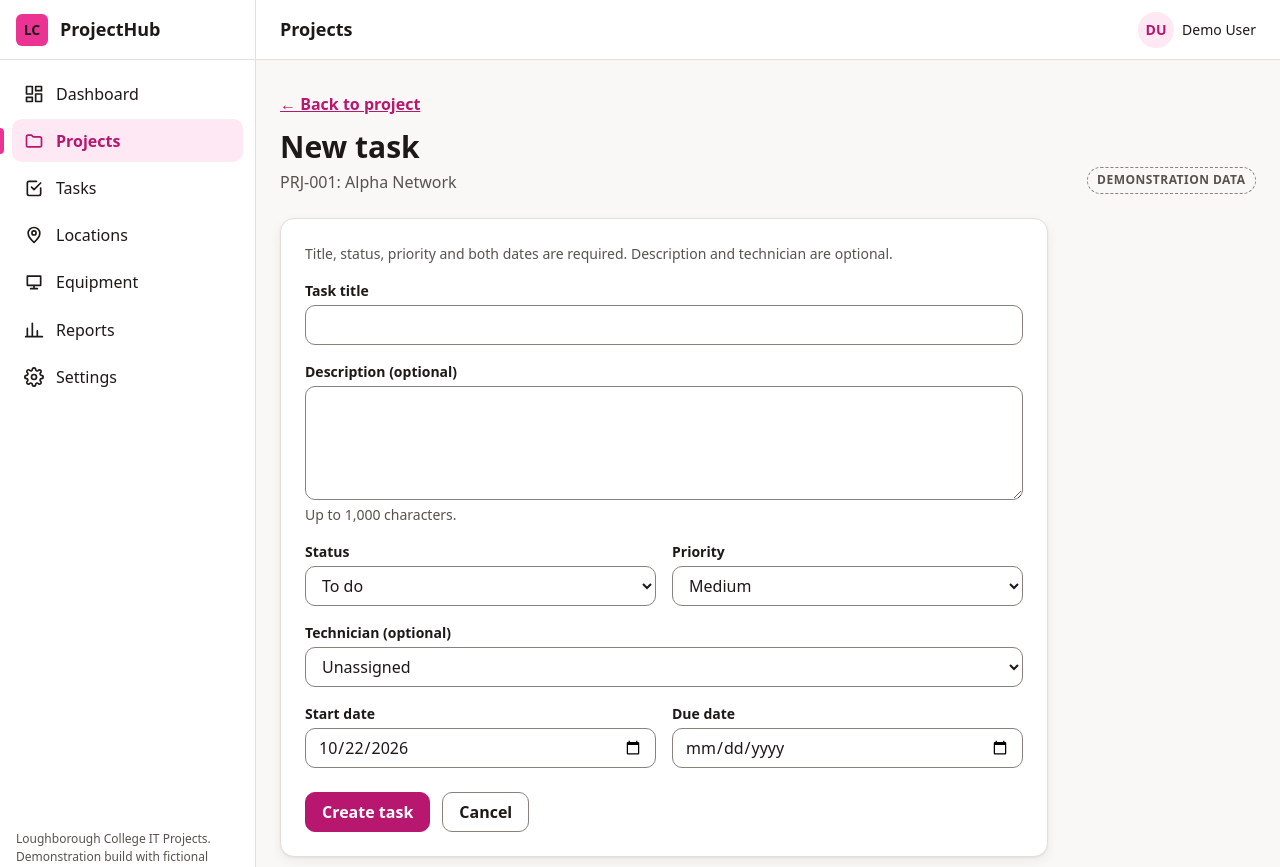
Scenario: creating a task › shows server-side field errors on the right field
Expected: the heading "New task" is shown, top-left (280, 126), bottom-right (420, 167)
In the field labelled "Task title": (664, 324) top-left (305, 304), bottom-right (1023, 344), type "Label the cables"
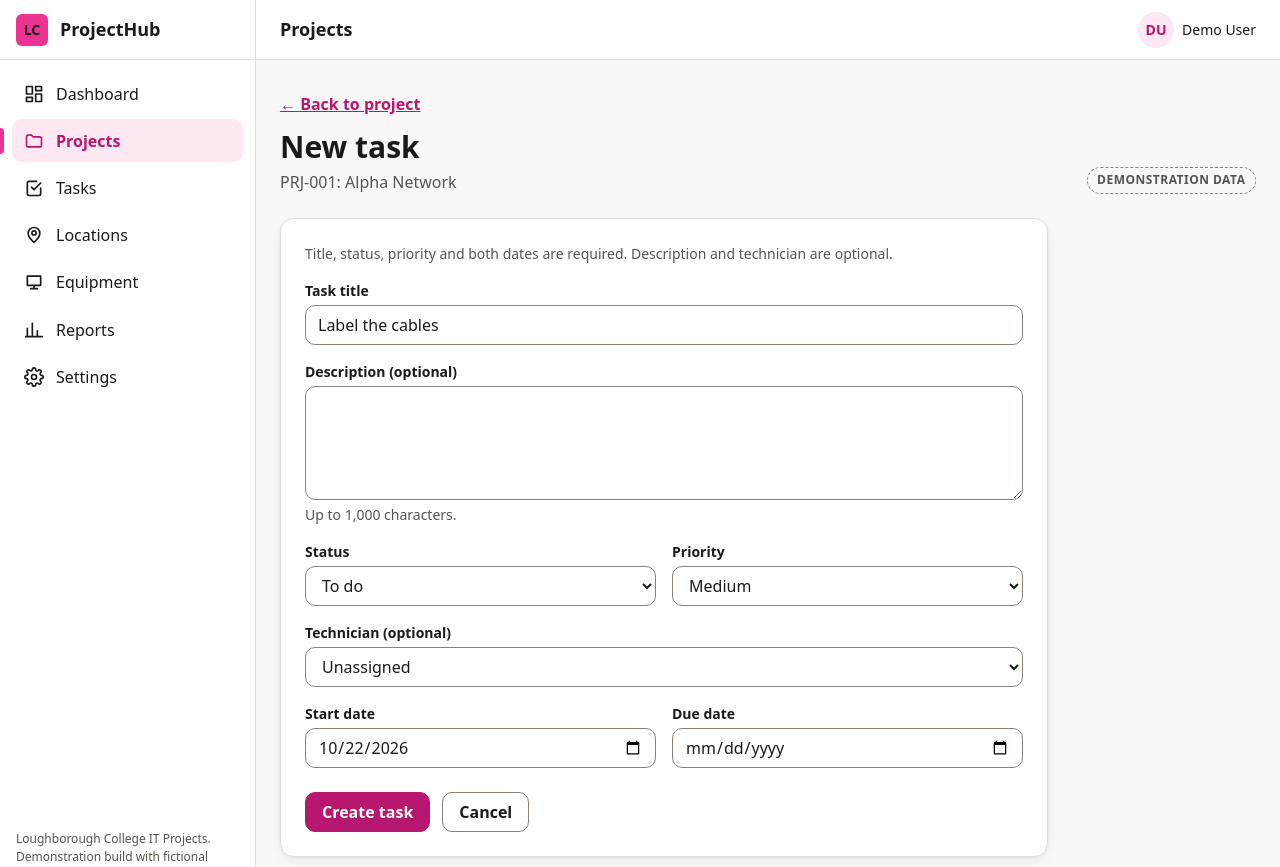
In the date field labelled "Due date": (848, 748) top-left (672, 728), bottom-right (1023, 768), type "2099-03-20"
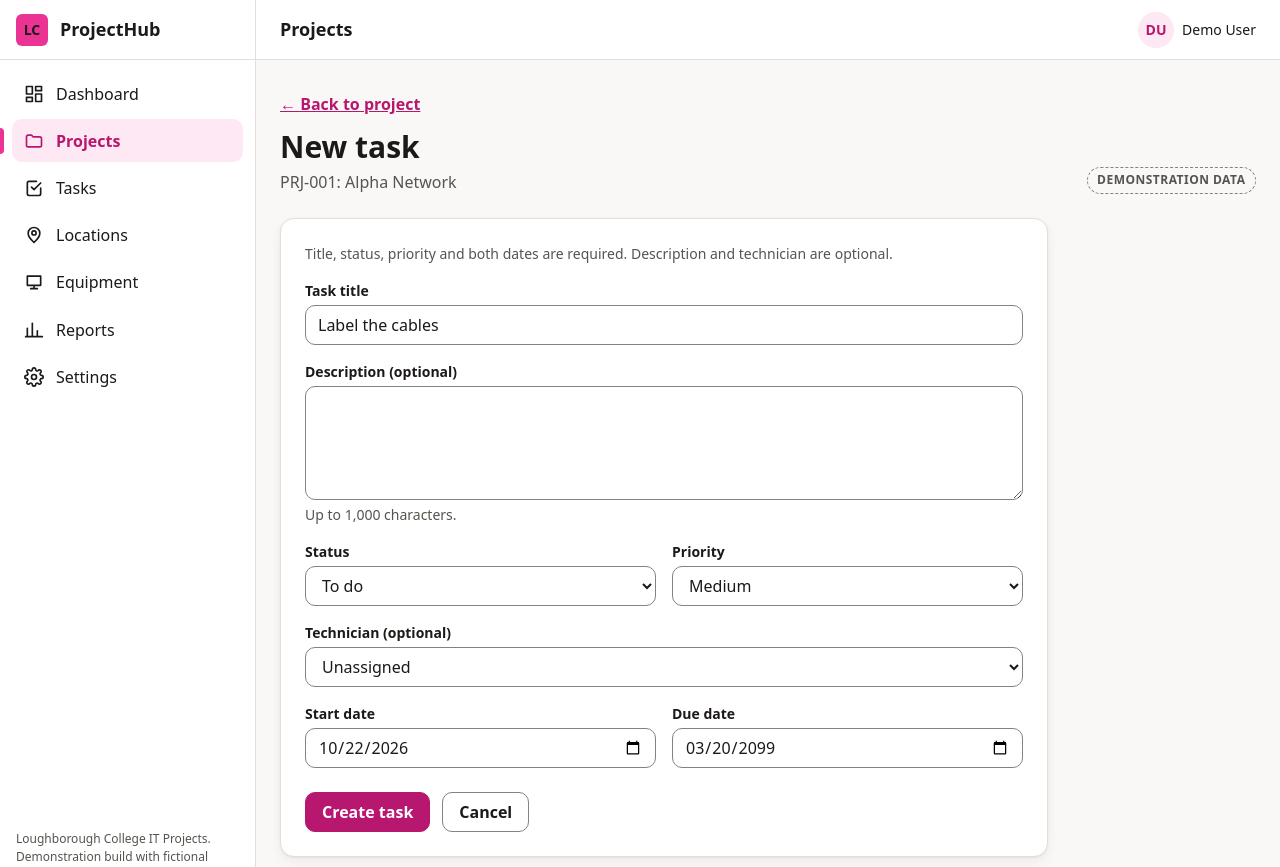
Click the button "Create task": (368, 812) top-left (305, 792), bottom-right (430, 832)
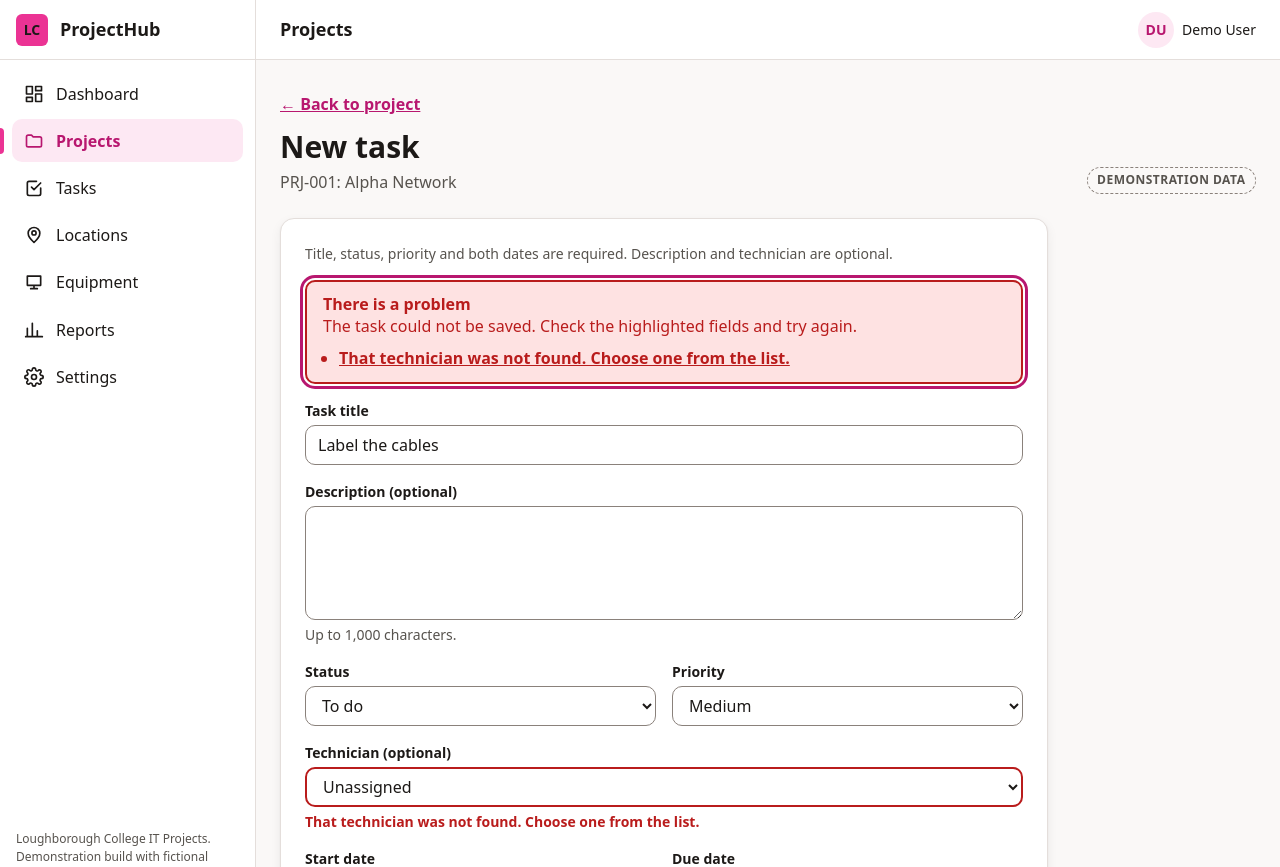
Result: the link "That technician was not found. Choose one from the list." is shown at top-left (339, 346), bottom-right (790, 368)
